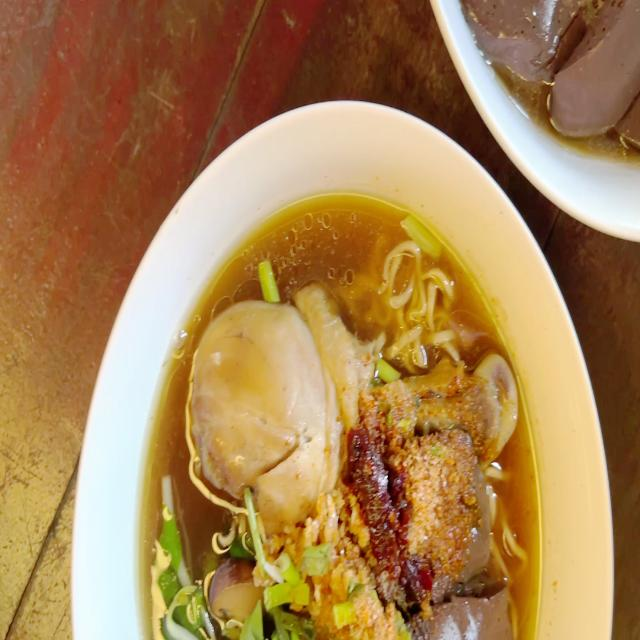boiled_chicken_blood_jelly: (468, 0, 640, 138), (396, 587, 519, 640)
chicken_drumstick: (177, 294, 513, 490)
noodle: (113, 209, 545, 640)
